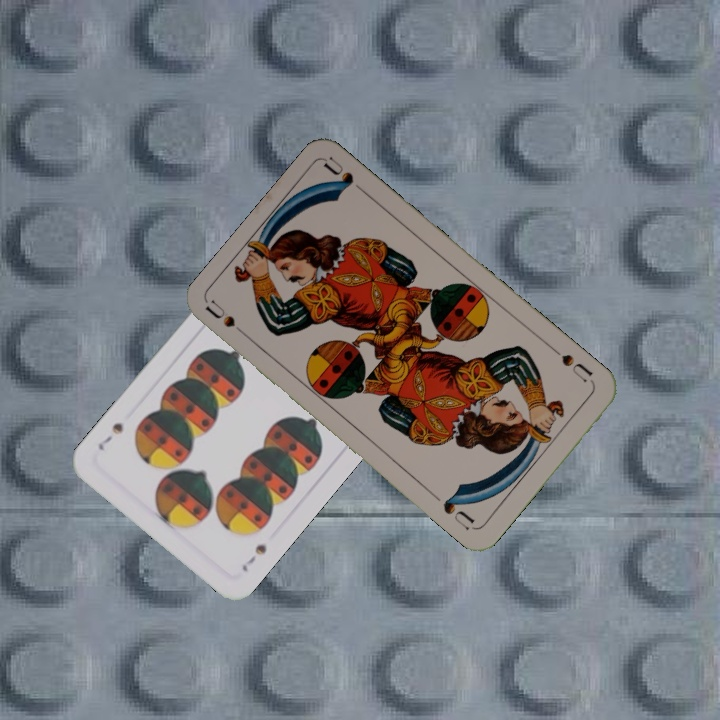S7: (237, 540, 269, 575)
SU: (202, 297, 254, 343), (547, 343, 596, 386)
